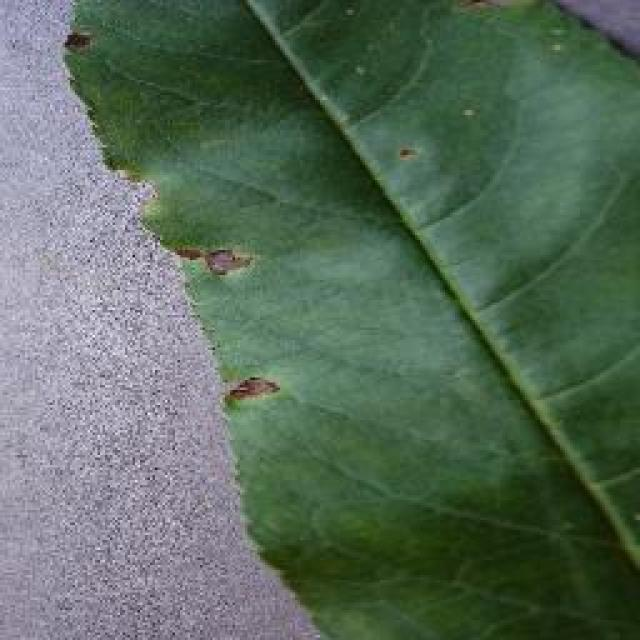Peach_Bacterial_Spot: (100, 102, 327, 433)
